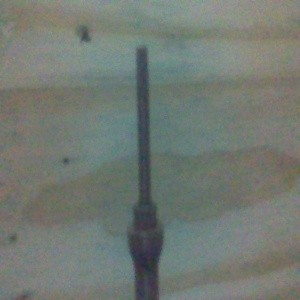obeng: (126, 46, 166, 300)
